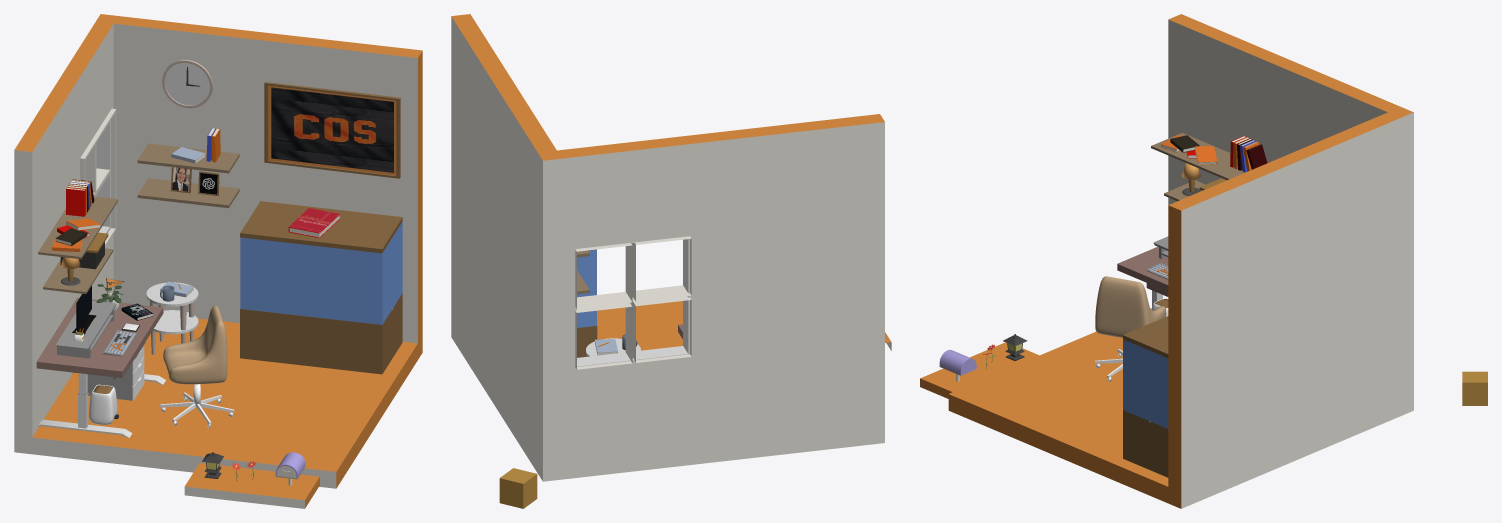
Rendered from house 6.glb.
The picture shows the model from 3 angles, left to right: view 1: azimuth 30°, elevation 25°; view 2: azimuth 150°, elevation 25°; view 3: azimuth 270°, elevation 25°; orthographic projection. The views are drawn at different scales.
Parts seen in each view (by area): view 1: Room, fish tank, cos-flag, Table Base, Shelf 1, Shelf 2, Garden Floor, Chair seat, Desk Content, Stool, Clock, cos226 (+3 smaller); view 2: Room, fish tank, cubicle, Stool; view 3: Room, fish tank, Shelf 1, Chair seat, Garden Floor, Table Base, cubicle, Mailbox.
Boxes of the visible parts, x1,y1,x2,y2 form: Room: (14, 14, 422, 488); fish tank: (240, 201, 402, 374); cos-flag: (264, 82, 400, 178); Table Base: (36, 297, 165, 437); Shelf 1: (38, 179, 117, 293); Shelf 2: (137, 128, 239, 208); Garden Floor: (184, 463, 319, 508); Chair seat: (163, 305, 227, 384); Desk Content: (55, 284, 139, 358); Stool: (146, 281, 198, 354); Clock: (162, 59, 212, 108); cos226: (288, 208, 339, 237); Room: (451, 14, 884, 481); fish tank: (577, 249, 597, 357); cubicle: (499, 468, 537, 508); Stool: (586, 334, 640, 356); Room: (948, 14, 1413, 508); fish tank: (1123, 316, 1168, 477); Shelf 1: (1151, 132, 1267, 201); Chair seat: (1095, 276, 1166, 337); Garden Floor: (920, 342, 1039, 398); Table Base: (1117, 246, 1168, 316); cubicle: (1462, 371, 1487, 405); Mailbox: (939, 349, 976, 381).
Size of the model in its own units: 23.29 by 16.47 by 28.41.
91 materials, 7 textured.
